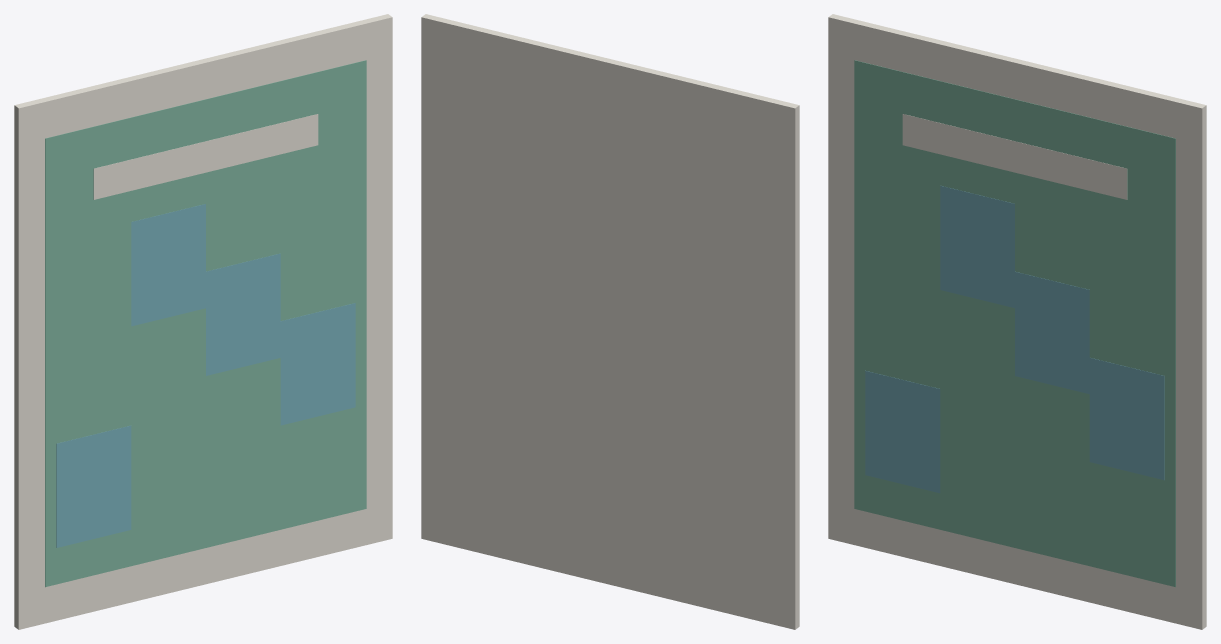
File: poster-medium.glb
3 views of the same model, side by side, from view 1: azimuth 30°, elevation 25°; view 2: azimuth 150°, elevation 25°; view 3: azimuth 330°, elevation 25° (orthographic).
Parts seen in each view (by area): view 1: poster-medium; view 2: poster-medium; view 3: poster-medium.
Boxes of the visible parts, x1,y1,x2,y2 form: poster-medium: [14, 14, 392, 629]; poster-medium: [421, 14, 799, 629]; poster-medium: [828, 14, 1206, 629].
Bounding box in the file's own units: 45 × 60 × 1.
